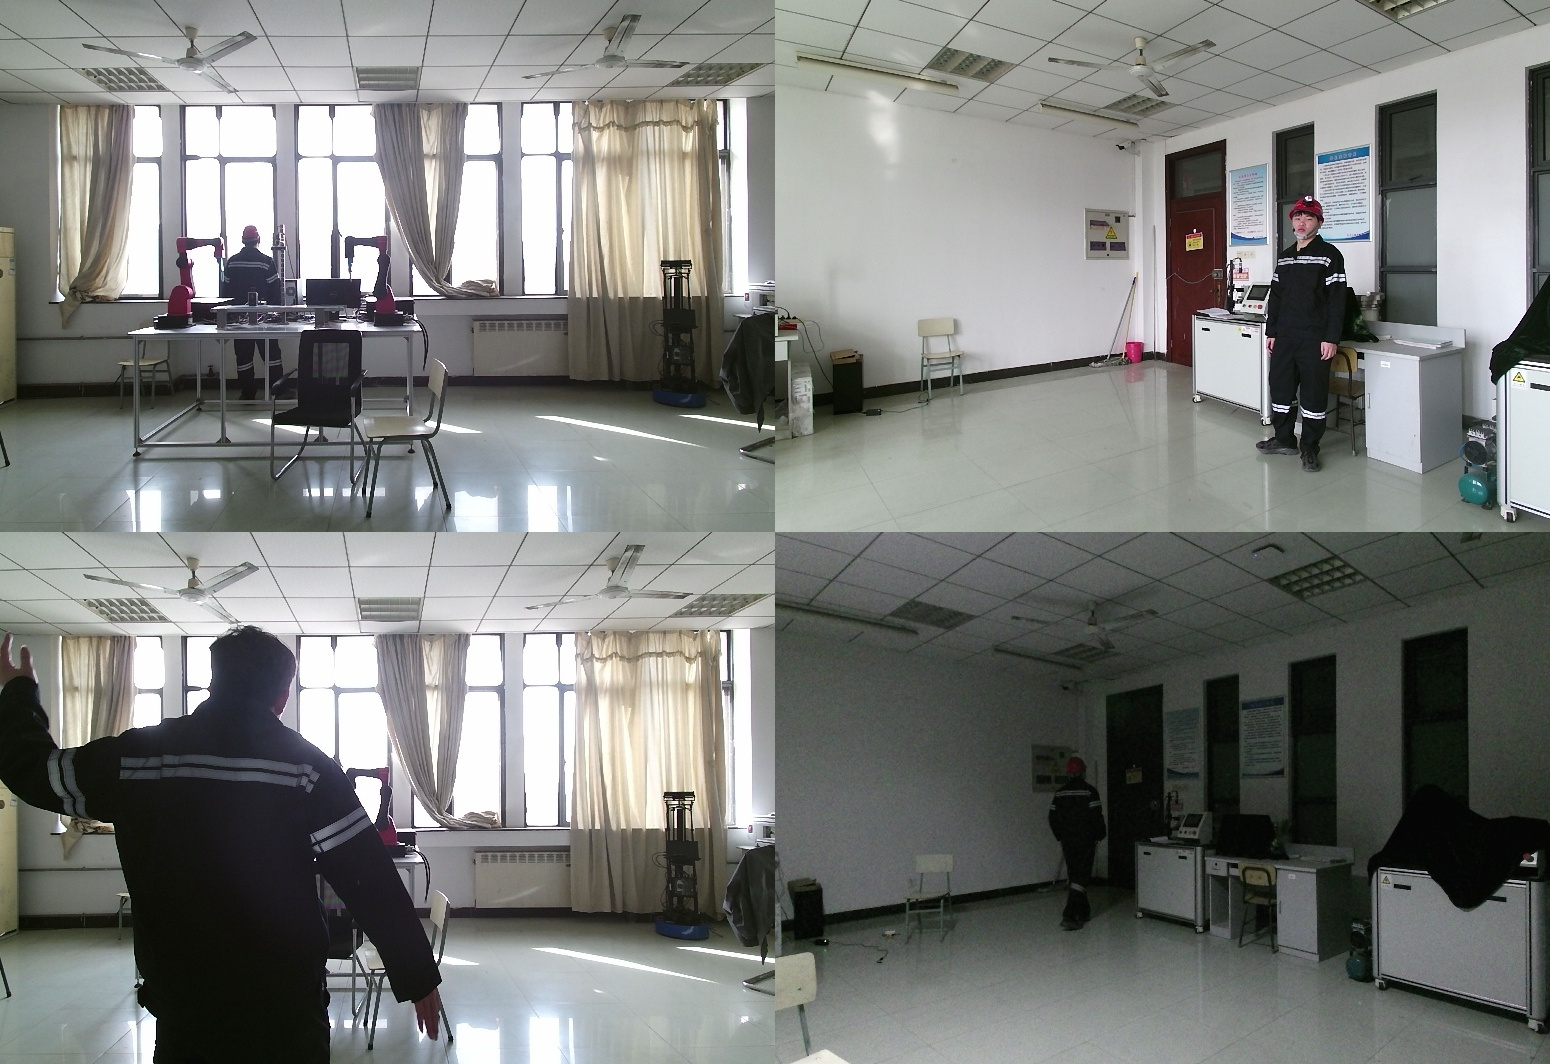person: (1, 629, 451, 1064), (1264, 195, 1356, 470), (1032, 756, 1108, 945), (219, 226, 293, 409)
